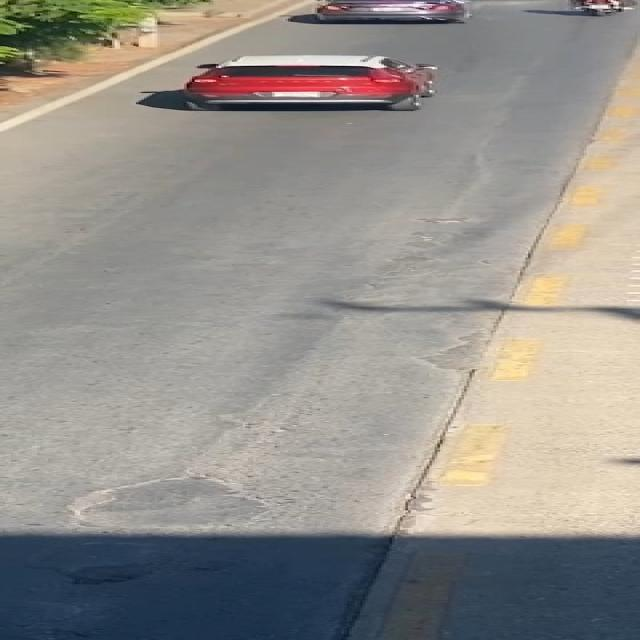car: (179, 52, 450, 116)
